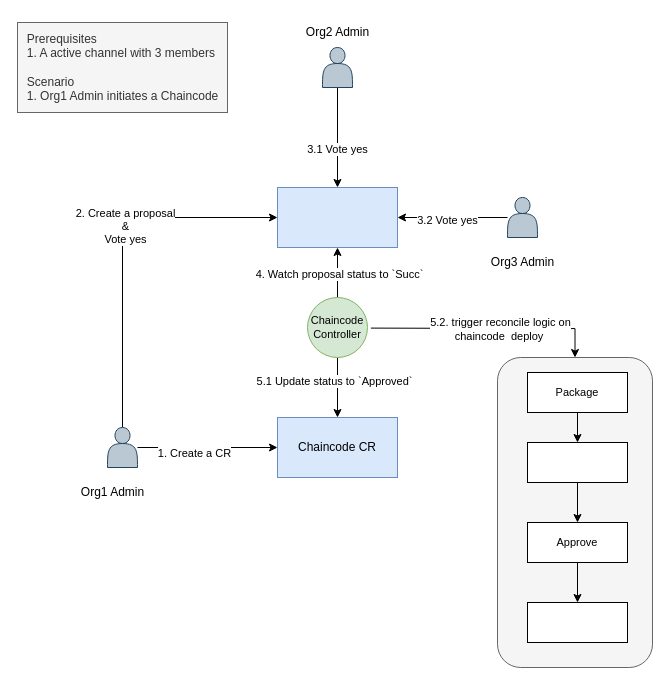
Image size: 670x685. Some labels were removed from this diagram. Each missing label, with the centre of its shape:
Commit: [577,622]
Install: [577,462]
Proposal (DeployChaincode): [337,217]
